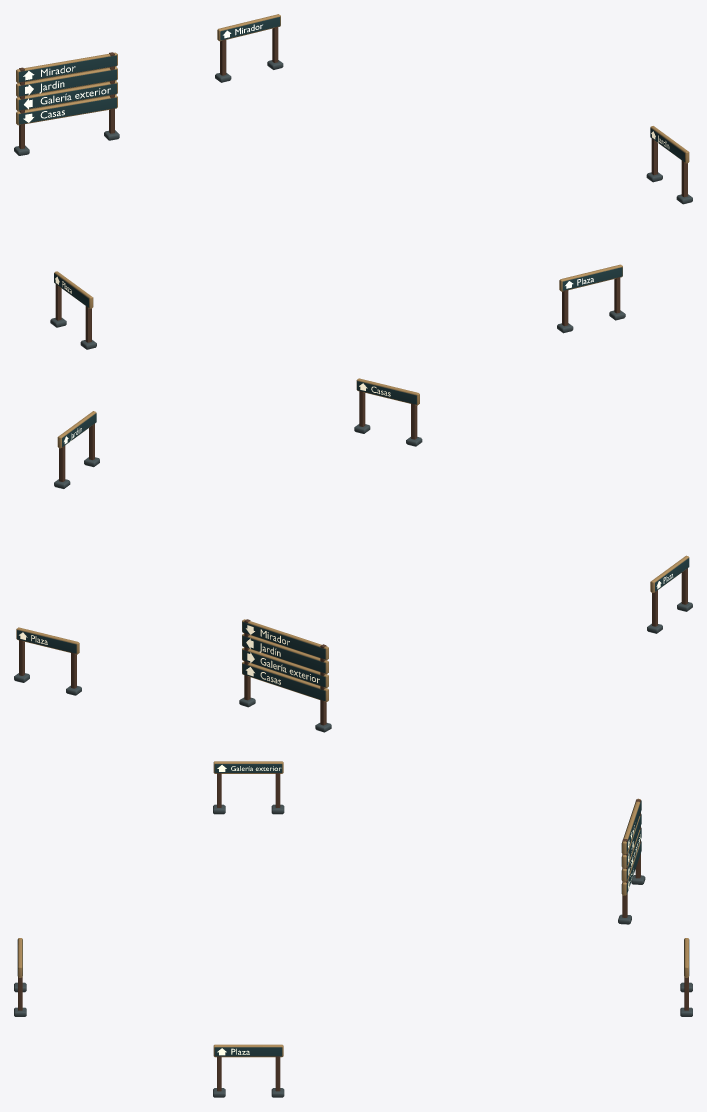
Rendered from commons-signs.glb.
3 views of the same model, one above another, from view 1: azimuth 30°, elevation 25°; view 2: azimuth 150°, elevation 25°; view 3: azimuth 270°, elevation 25° (orthographic). The views are drawn at different scales.
Visible parts, largest first — view 1: Blue iron enamel, Aged brass, Smoked oak, Ivory inlay, Dressed basalt footing; view 2: Blue iron enamel, Aged brass, Smoked oak, Dressed basalt footing, Ivory inlay; view 3: Blue iron enamel, Aged brass, Smoked oak, Dressed basalt footing.
Part boxes in pixels (left/top/right/bottom): Blue iron enamel: left=18, top=17, right=684, bottom=307; Aged brass: left=16, top=14, right=689, bottom=308; Smoked oak: left=19, top=26, right=687, bottom=342; Ivory inlay: left=23, top=24, right=669, bottom=293; Dressed basalt footing: left=14, top=60, right=692, bottom=349; Blue iron enamel: left=17, top=381, right=689, bottom=700; Aged brass: left=16, top=378, right=689, bottom=702; Smoked oak: left=19, top=391, right=687, bottom=725; Dressed basalt footing: left=14, top=424, right=692, bottom=732; Ivory inlay: left=19, top=383, right=672, bottom=684; Blue iron enamel: left=17, top=764, right=689, bottom=1056; Aged brass: left=18, top=761, right=688, bottom=1057; Smoked oak: left=18, top=773, right=688, bottom=1091; Dressed basalt footing: left=14, top=804, right=692, bottom=1097.
Bounding box in the file's own units: 16.76 × 2.24 × 16.66.
